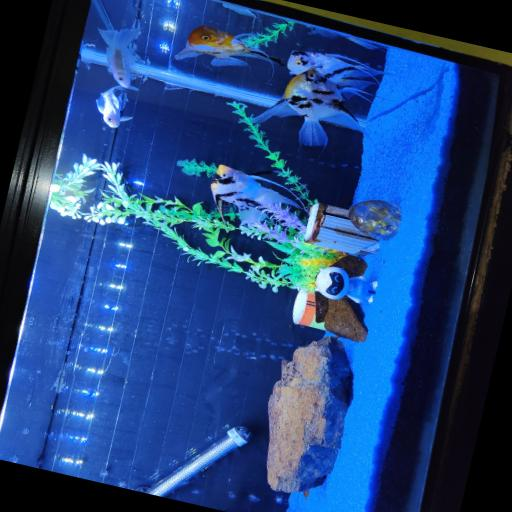Fish: (251, 69, 363, 146), (211, 165, 306, 224), (175, 25, 284, 66), (287, 51, 390, 88), (99, 29, 140, 88), (308, 27, 385, 51), (96, 86, 132, 128), (223, 3, 257, 18)
